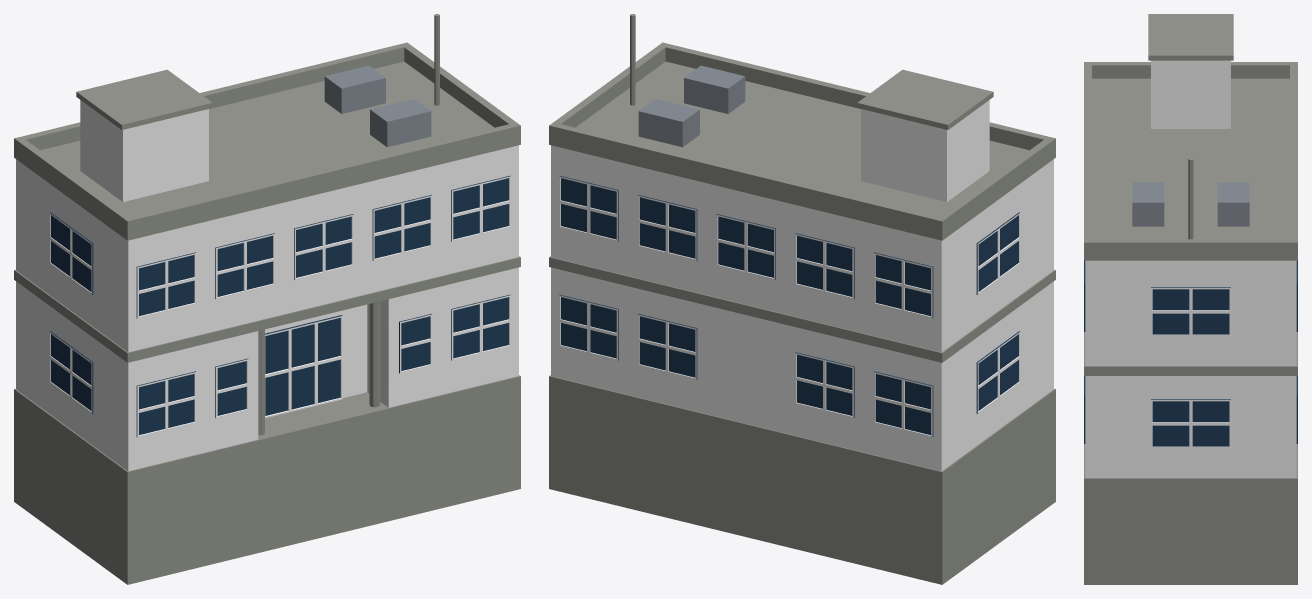
Rendered from site_office_close.fbx.
3 views of the same model, side by side, from view 1: azimuth 30°, elevation 25°; view 2: azimuth 150°, elevation 25°; view 3: azimuth 270°, elevation 25° (orthographic). The views are drawn at different scales.
Visible parts, largest first — view 1: a1058/0/site_office_close; view 2: a1058/0/site_office_close; view 3: a1058/0/site_office_close.
Part boxes in pixels (x1,y1,x2,y2): a1058/0/site_office_close: (14,14,520,584); a1058/0/site_office_close: (549,14,1055,584); a1058/0/site_office_close: (1084,14,1297,584).
Bounding box in the file's own units: 12.8 × 13.66 × 6.4.
